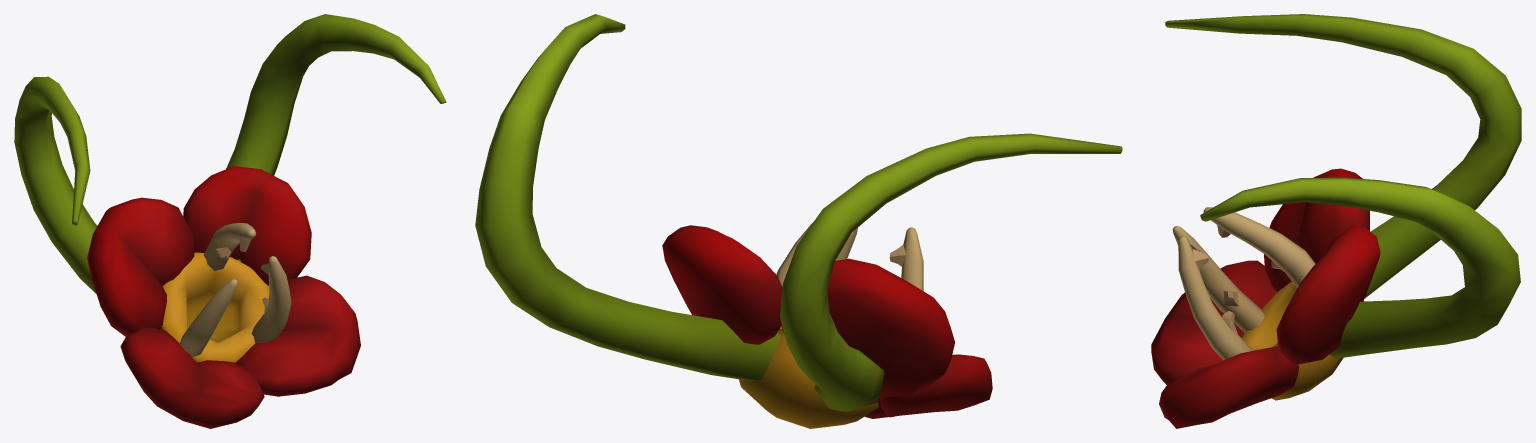
Rendered from Plant_15.fbx.
3 renders of one model, left to right at view 1: azimuth 30°, elevation 25°; view 2: azimuth 150°, elevation 25°; view 3: azimuth 270°, elevation 25°, orthographic. The views are drawn at different scales.
Parts seen in each view (by area): view 1: Plant_15; view 2: Plant_15; view 3: Plant_15.
Boxes of the visible parts, bbox=[...] form: Plant_15: bbox=[14, 14, 446, 428]; Plant_15: bbox=[475, 14, 1122, 428]; Plant_15: bbox=[1151, 14, 1521, 428].
Size of the model in its own units: 611 by 429 by 441.
